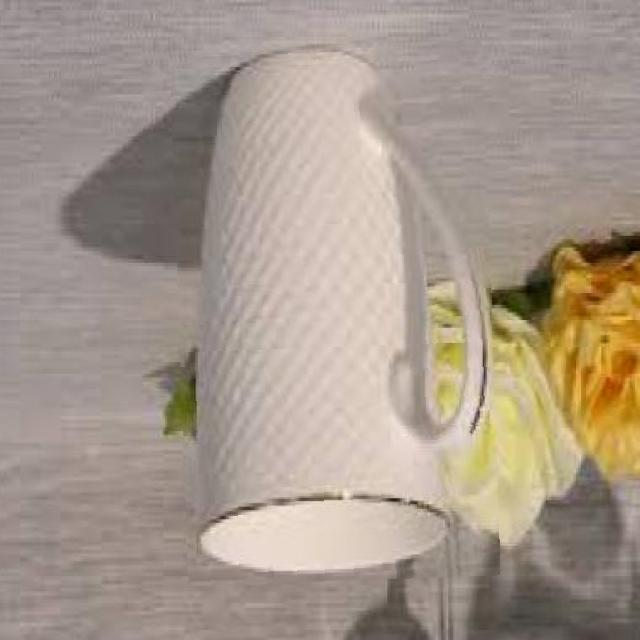cup: (169, 39, 501, 586)
